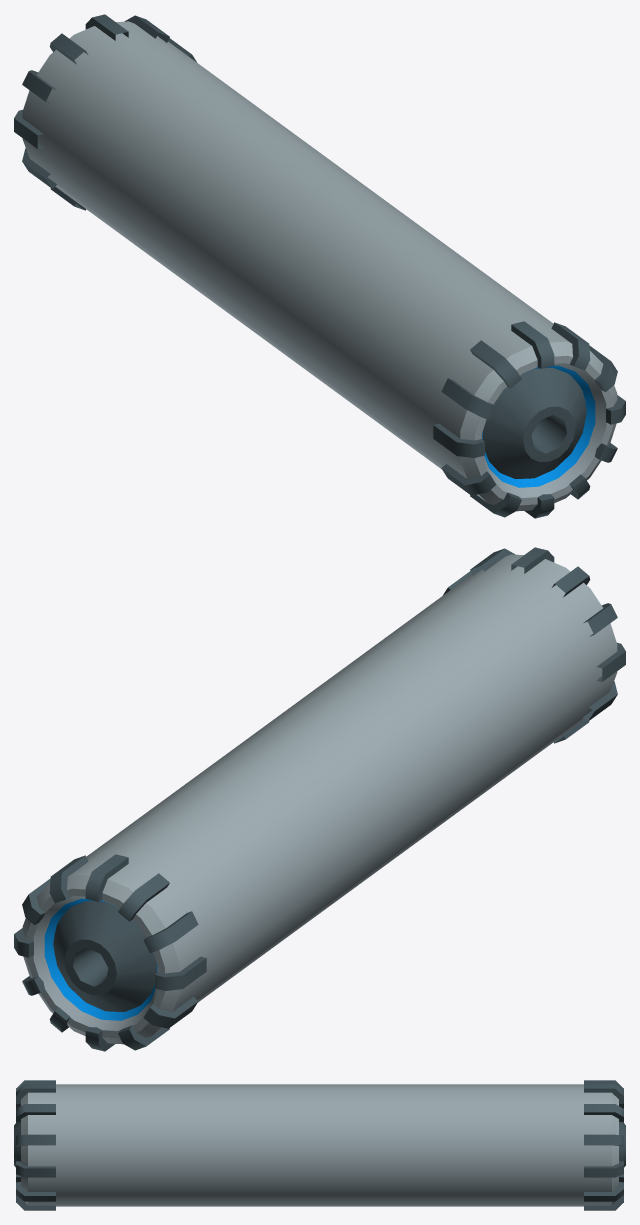
Rendered from Generator_rotor_009.fbx.
The picture shows the model from 3 angles, top to bottom: view 1: azimuth 30°, elevation 25°; view 2: azimuth 150°, elevation 25°; view 3: azimuth 270°, elevation 25°; orthographic projection. The views are drawn at different scales.
Parts seen in each view (by area): view 1: Generator_rotor_009; view 2: Generator_rotor_009; view 3: Generator_rotor_009.
Part boxes in pixels (left/top/right/bottom): Generator_rotor_009: left=14, top=14, right=625, bottom=518; Generator_rotor_009: left=14, top=547, right=625, bottom=1051; Generator_rotor_009: left=14, top=1080, right=625, bottom=1210.
Bounding box in the file's own units: 53.63 × 252 × 53.63.
